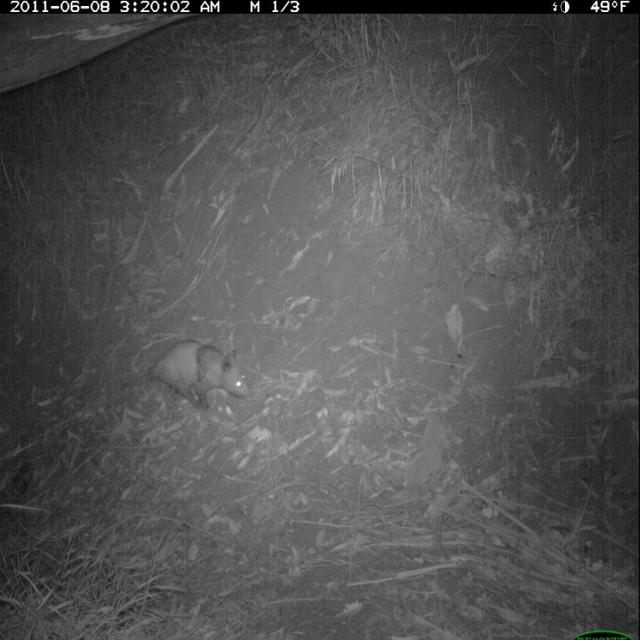opossum: (113, 337, 256, 438)
